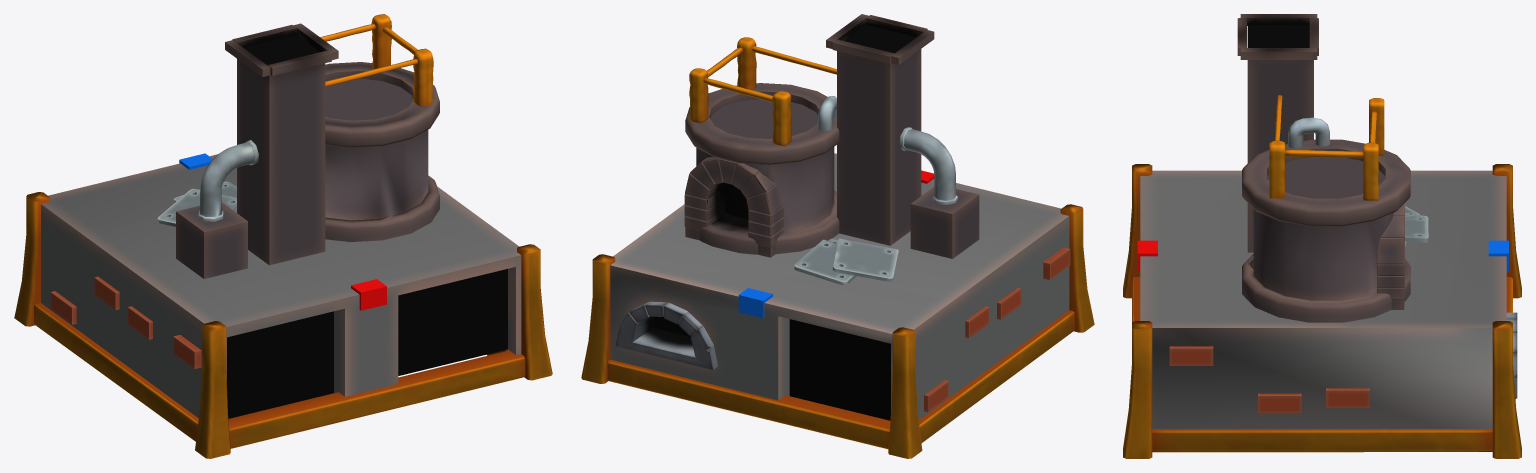
Rendered from Foundry_Final.fbx.
3 renders of one model, left to right at view 1: azimuth 30°, elevation 25°; view 2: azimuth 150°, elevation 25°; view 3: azimuth 270°, elevation 25°, orthographic. The views are drawn at different scales.
Parts seen in each view (by area): view 1: Cylinder.038_Baked; view 2: Cylinder.038_Baked; view 3: Cylinder.038_Baked.
Boxes of the visible parts, x1,y1,x2,y2 form: Cylinder.038_Baked: (14,14,552,458); Cylinder.038_Baked: (581,14,1094,458); Cylinder.038_Baked: (1123,14,1521,458).
Bounding box in the file's own units: 200 × 177 × 195.
1 material, 1 textured.
